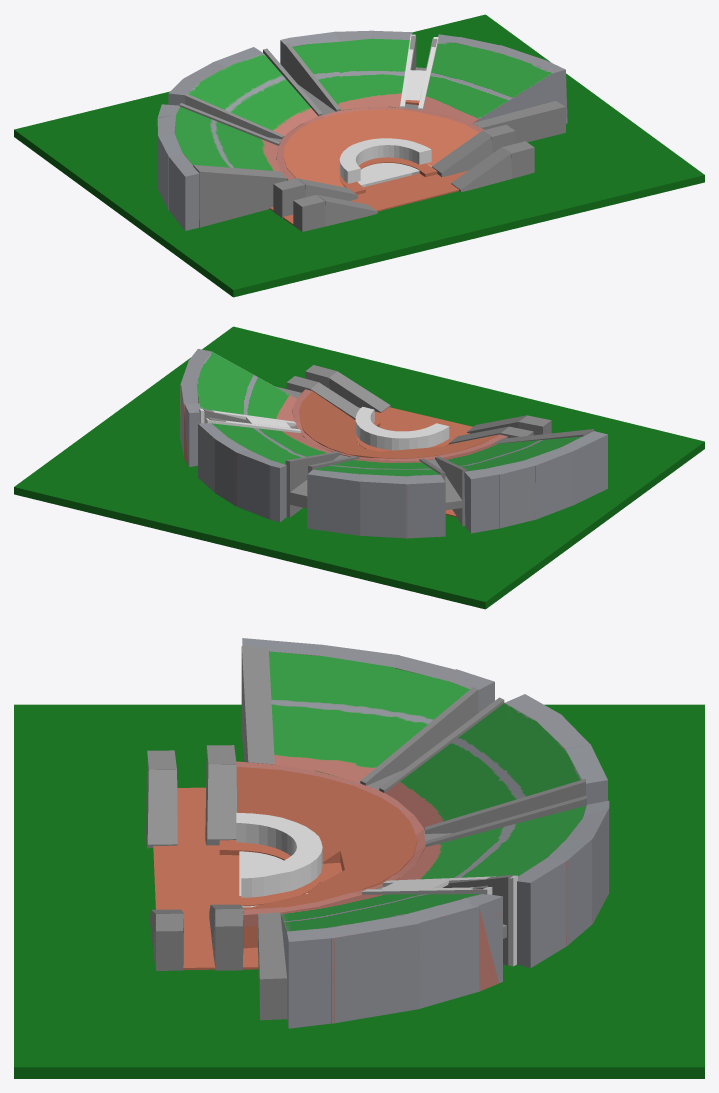
Rendered from theateraugst.glb.
3 renders of one model, top to bottom at view 1: azimuth 30°, elevation 25°; view 2: azimuth 150°, elevation 25°; view 3: azimuth 270°, elevation 25°, orthographic. The views are drawn at different scales.
Parts seen in each view (by area): view 1: Cube.013, rundweg.001, schräge, Cube.012, Cube.014, erste stufe.001, Cube.011, Cube.009, Cube.007, Cube.020, Cube.018, Cube.006 (+10 smaller); view 2: Cube.013, rundweg.001, schräge, erste stufe.001, Cube.014, Cube.009, Cube.018, Cube.020, Cube.015, Cube.007, Cube.012, Cube.006 (+2 smaller); view 3: Cube.013, rundweg.001, schräge, Cube.014, erste stufe.001, Cube.012, Cube.011, Cube.015, Cube.017, Cube.003, Cube.005, Cube.020 (+7 smaller).
Boxes of the visible parts, bbox=[...] form: Cube.013: bbox=[14, 14, 704, 297]; rundweg.001: bbox=[157, 30, 567, 230]; schräge: bbox=[283, 109, 479, 187]; Cube.012: bbox=[193, 165, 286, 227]; Cube.014: bbox=[269, 114, 468, 225]; erste stufe.001: bbox=[339, 138, 431, 183]; Cube.011: bbox=[472, 101, 565, 143]; Cube.009: bbox=[451, 147, 512, 192]; Cube.007: bbox=[432, 130, 492, 177]; Cube.020: bbox=[400, 34, 438, 110]; Cube.018: bbox=[285, 43, 340, 111]; Cube.006: bbox=[293, 195, 325, 231]; Cube.013: bbox=[14, 326, 704, 609]; rundweg.001: bbox=[180, 349, 607, 538]; schräge: bbox=[298, 391, 499, 474]; erste stufe.001: bbox=[355, 406, 449, 450]; Cube.014: bbox=[358, 407, 472, 517]; Cube.009: bbox=[329, 371, 390, 412]; Cube.018: bbox=[285, 451, 340, 517]; Cube.020: bbox=[199, 408, 301, 450]; Cube.015: bbox=[435, 456, 466, 526]; Cube.007: bbox=[310, 382, 359, 419]; Cube.012: bbox=[492, 429, 593, 444]; Cube.006: bbox=[518, 415, 551, 435]; Cube.013: bbox=[14, 704, 704, 1078]; rundweg.001: bbox=[236, 638, 609, 1028]; schräge: bbox=[236, 767, 417, 948]; Cube.014: bbox=[153, 787, 258, 969]; erste stufe.001: bbox=[236, 812, 322, 897]; Cube.012: bbox=[241, 646, 274, 764]; Cube.011: bbox=[258, 912, 287, 1020]; Cube.015: bbox=[360, 687, 478, 785]; Cube.017: bbox=[424, 779, 585, 833]; Cube.003: bbox=[205, 764, 236, 845]; Cube.005: bbox=[146, 769, 177, 848]; Cube.020: bbox=[362, 875, 517, 966].
Bounding box in the file's own units: 40 × 5.65 × 32.22.
5 materials, 1 textured.
